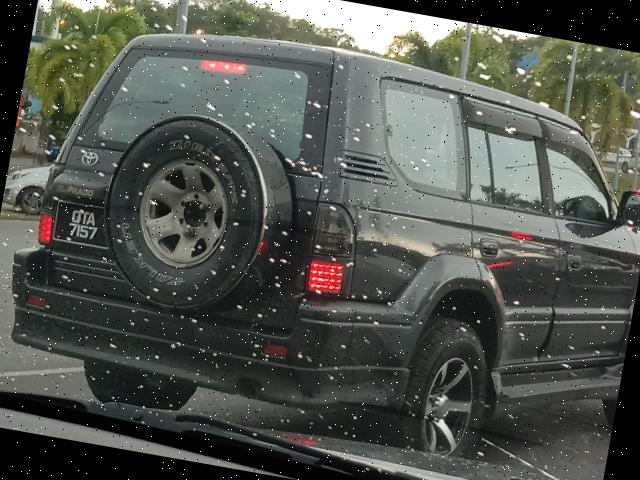License_Plate: (52, 201, 112, 250)
car: (1, 1, 640, 480)
